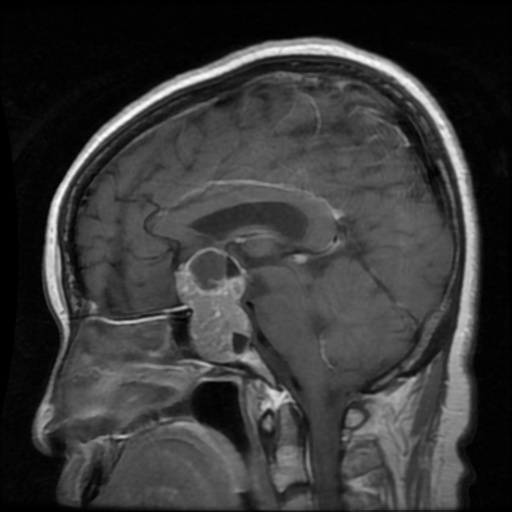pituitary: (176, 246, 252, 361)
